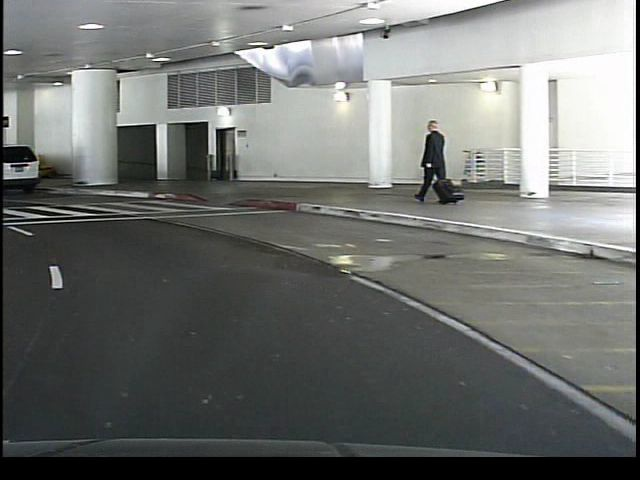person: (410, 117, 449, 207)
